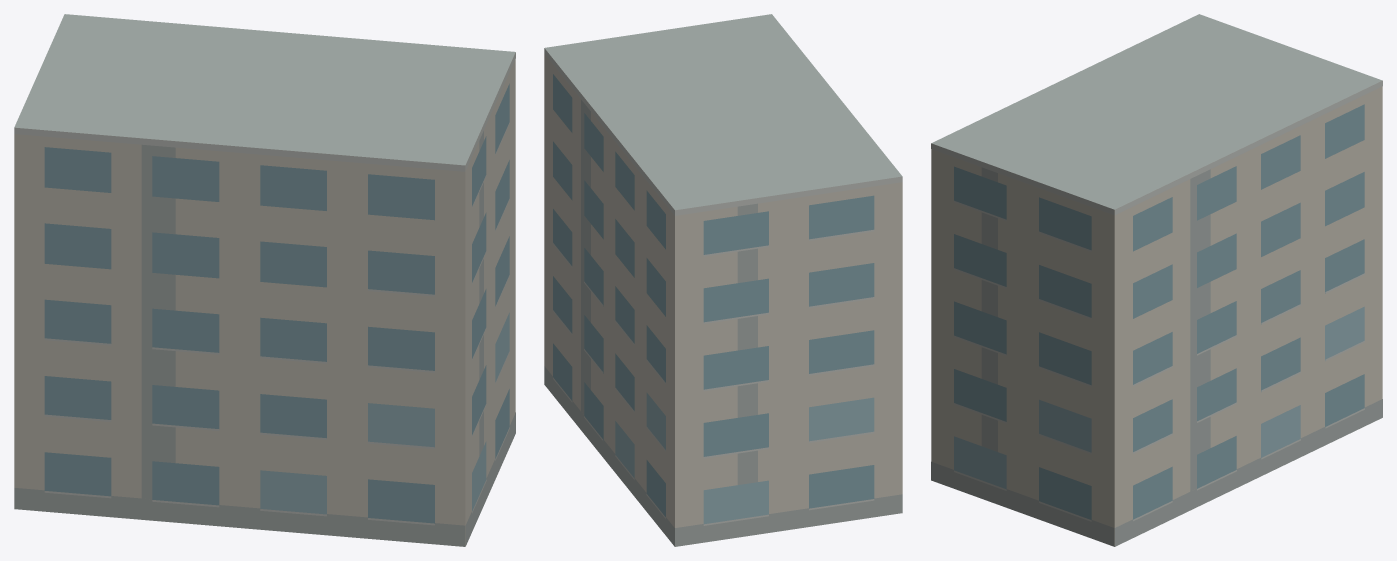
File: survey-upis-32927701.glb
3 renders of one model, left to right at view 1: azimuth 30°, elevation 25°; view 2: azimuth 150°, elevation 25°; view 3: azimuth 270°, elevation 25°, orthographic. The views are drawn at different scales.
Visible parts, largest first — view 1: survey-upis-32927701.tmp; view 2: survey-upis-32927701.tmp; view 3: survey-upis-32927701.tmp.
Part boxes in pixels (x1,y1,x2,y2): survey-upis-32927701.tmp: (14,14,515,546); survey-upis-32927701.tmp: (544,14,902,546); survey-upis-32927701.tmp: (931,14,1382,546).
Bounding box in the file's own units: 18.06 × 14.5 × 17.61.
